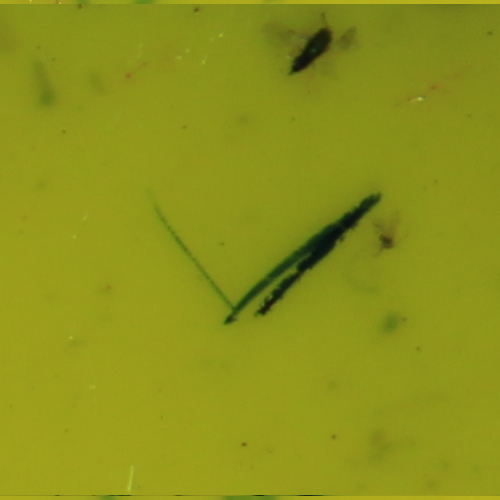Psyllaephagus: (287, 26, 333, 74)
